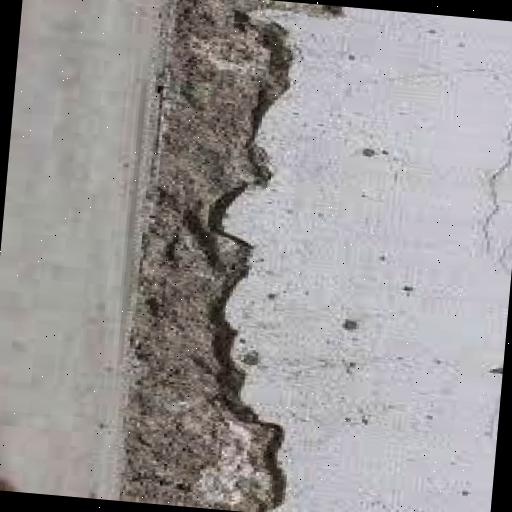spalling: (123, 0, 341, 512)
